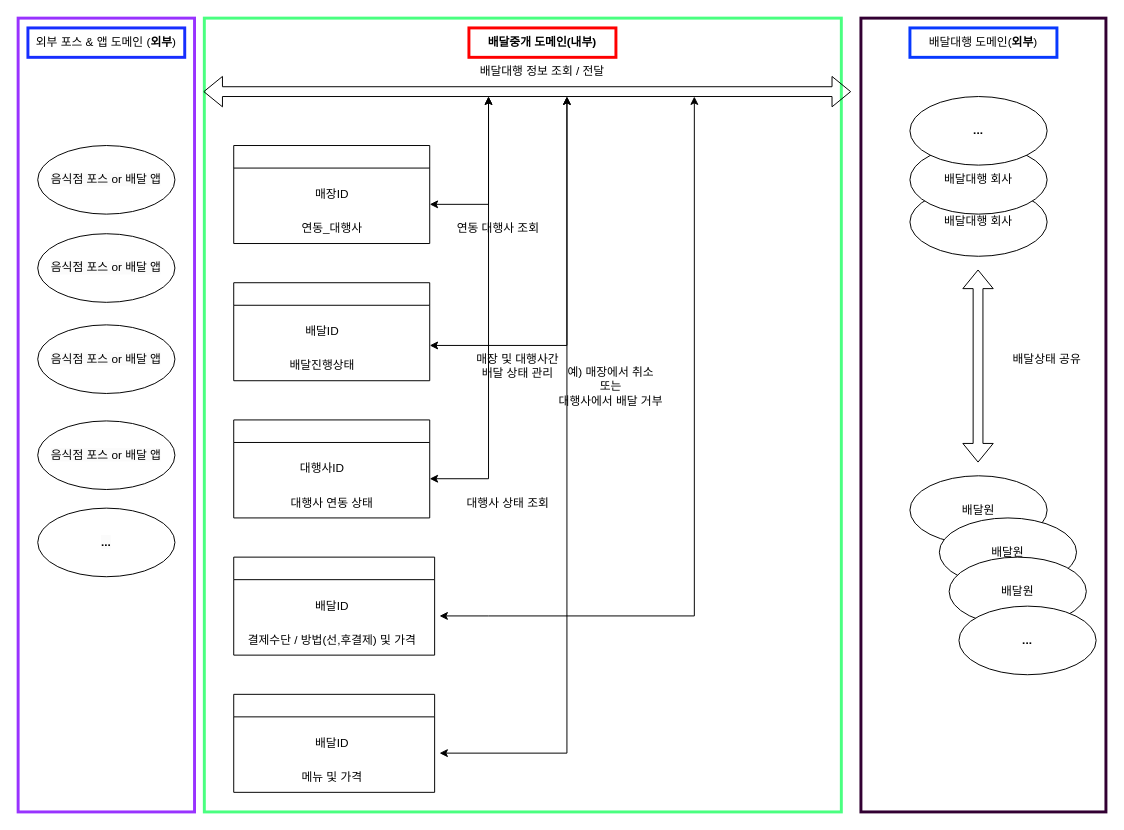
The diagram is 1124 pixels wide and 830 high, and some of its shapes have lost their labels. The shapes that lost their labels are listed below. From the top down, each one's box as (x1, y1, x2, y2) in pixels, then its label:
(233, 145, 430, 244): 매장 정보 관리
(233, 282, 430, 381): 배달대행 정보 관리
(233, 419, 430, 518): 대행사 정보 관리
(233, 556, 435, 655): 결제정보 관리
(233, 693, 435, 792): 메뉴 정보 관리
